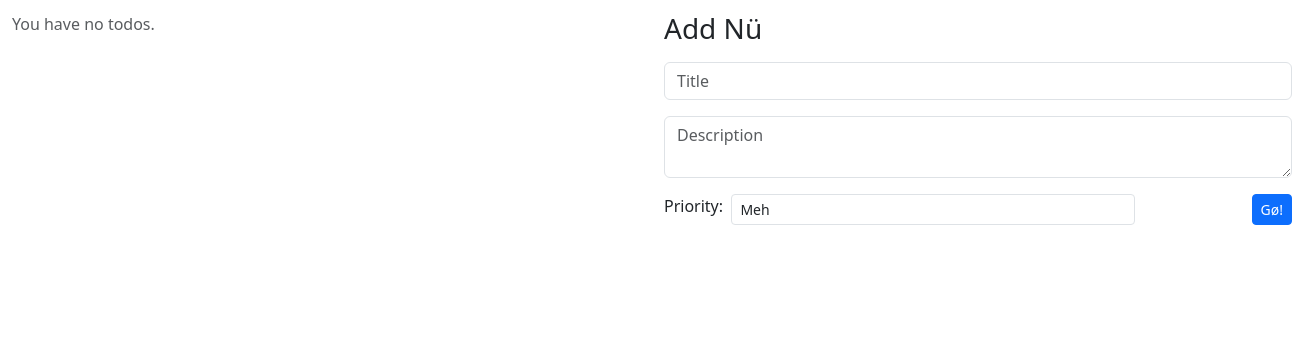
Scenario: adding todos › can add a new todo
This screenshot has width=1304, height=355.
expect the text "You have no todos." is shown: met, box [12,13,155,35]
Type "test title" into the field named "title" at {"x": 978, "y": 81}, box [664,62,1292,100]
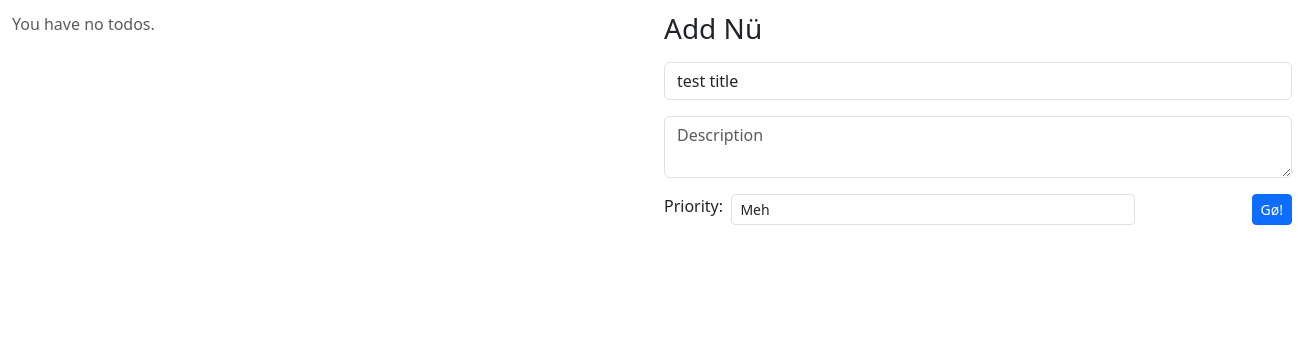
Type "test description" into the text box named "description" at {"x": 978, "y": 147}, box [664,116,1292,178]
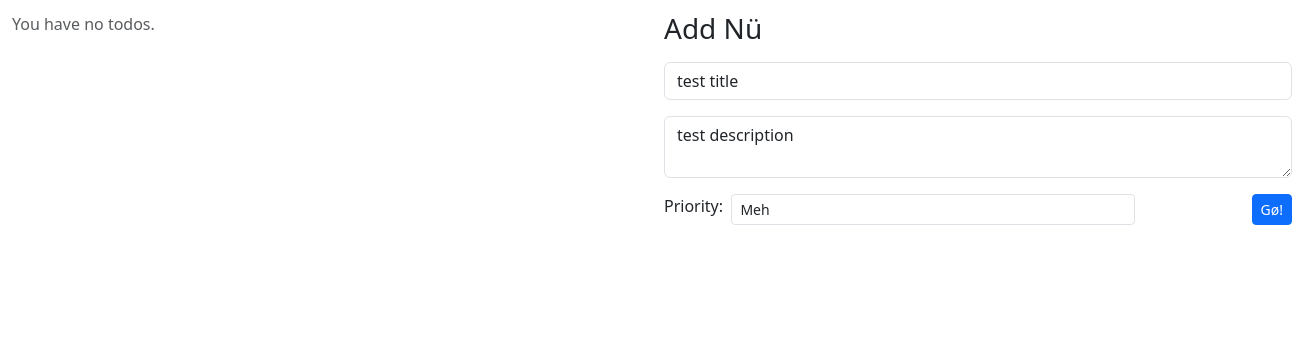
Select "Ultra-Über" in the dropdown named "priority" at {"x": 933, "y": 209}, box [731,194,1135,225]
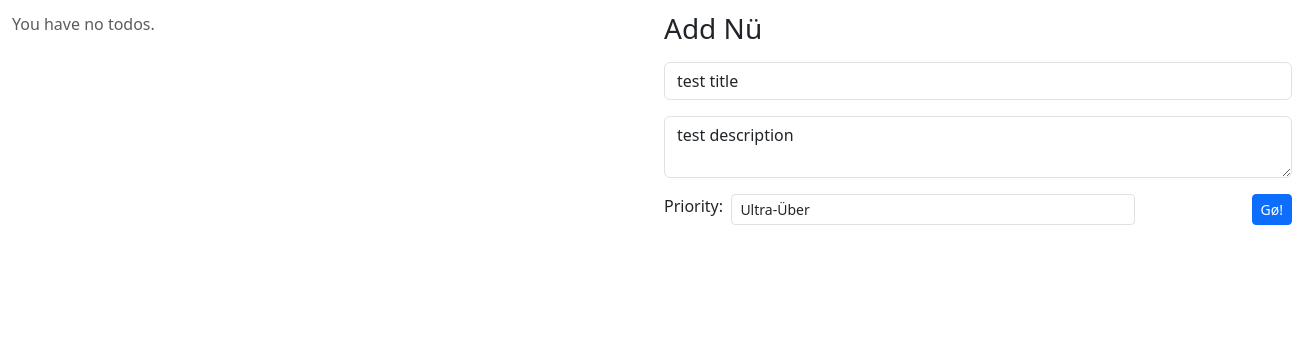
Click the button with class "NewTodoForm-addBtn" at {"x": 1272, "y": 209}, box [1252,194,1292,225]
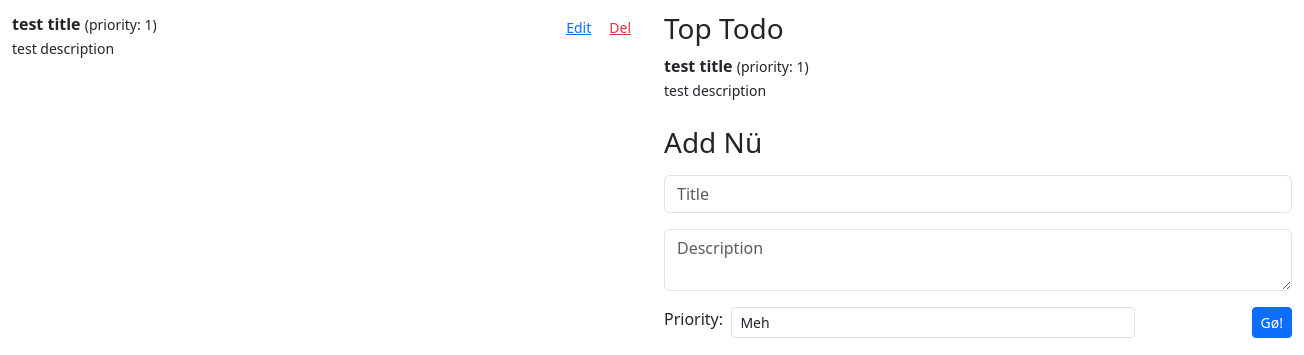
expect the element with class "Todo" shows "test title": met, box [12,13,81,35]
expect the element with class "Todo" shows "test description": met, box [12,39,114,58]
expect the element with class "Todo" shows "priority: 1": met, box [12,13,157,58]
